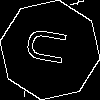U: (25, 25, 77, 69)
